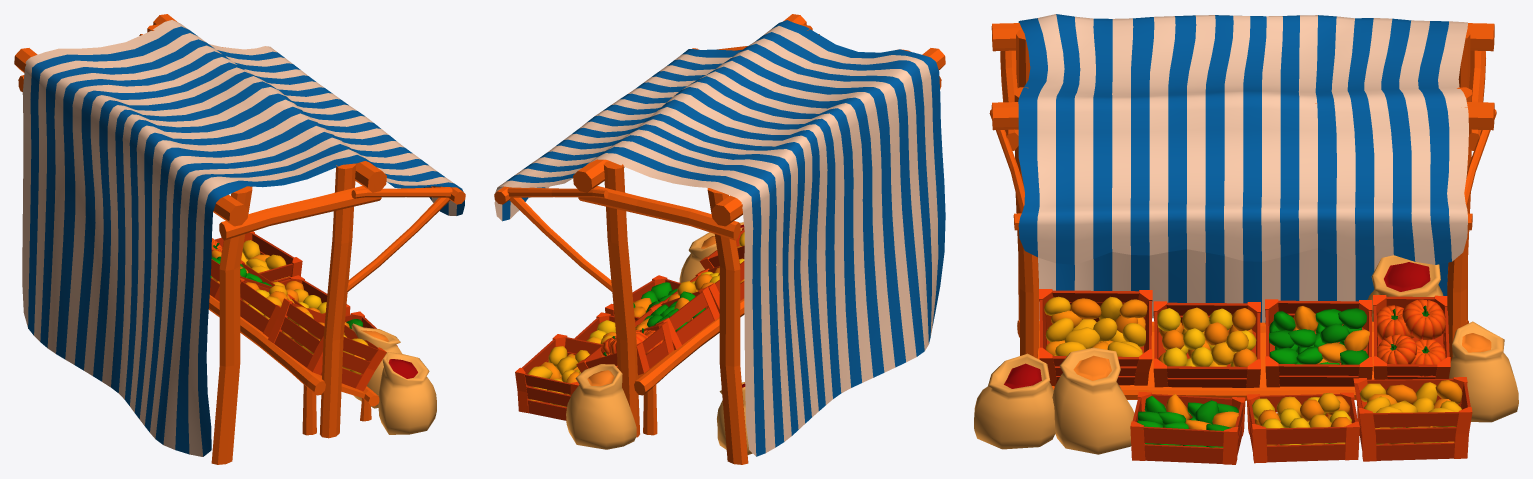
File: marketstall3.glb
The picture shows the model from 3 angles, left to right: view 1: azimuth 30°, elevation 25°; view 2: azimuth 150°, elevation 25°; view 3: azimuth 270°, elevation 25°; orthographic projection. The views are drawn at different scales.
Parts seen in each view (by area): view 1: MarketStall3; view 2: MarketStall3; view 3: MarketStall3.
Boxes of the visible parts, <box> form: MarketStall3: <box>14,14,465,464</box>; MarketStall3: <box>494,14,945,464</box>; MarketStall3: <box>974,14,1518,464</box>.
Size of what is drawn, in the model's own units: 1.82 by 1.78 by 2.72.
Materials: 1 (1 with a texture image).
